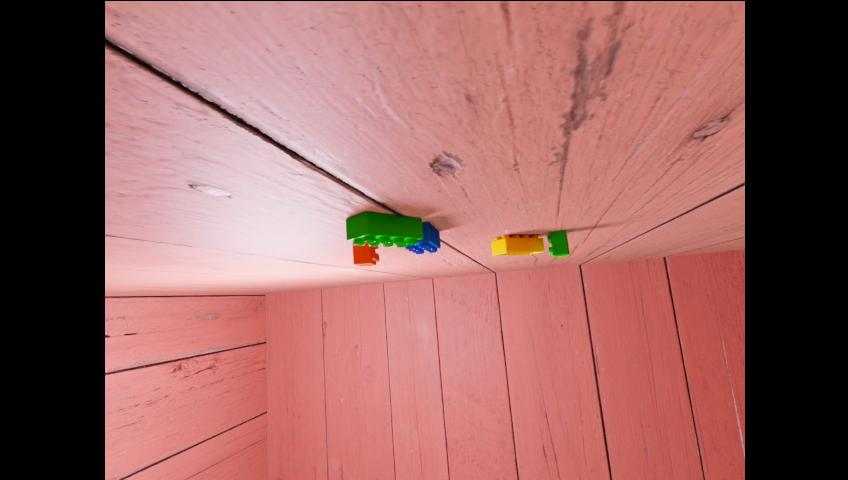2x2_green: (547, 230, 569, 257)
2x2_orange: (353, 242, 379, 267)
4x2_blue: (405, 222, 440, 254)
4x2_green: (346, 212, 423, 248)
4x2_yellow: (492, 235, 544, 256)
